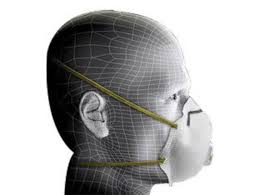mask: (161, 100, 220, 188)
